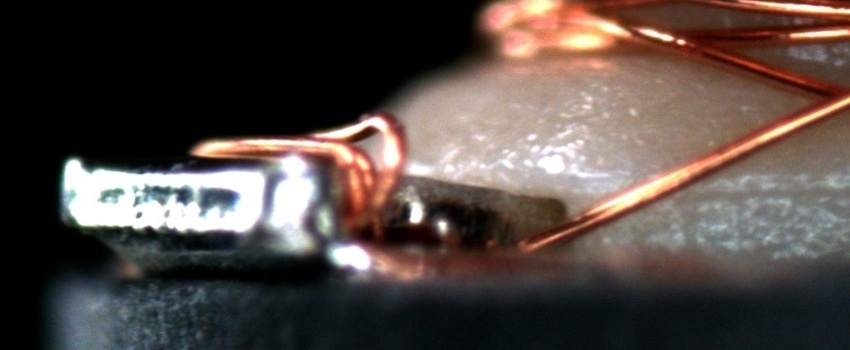CL: (795, 71, 849, 124)
DL: (682, 165, 849, 229)
TE: (185, 99, 410, 233)
